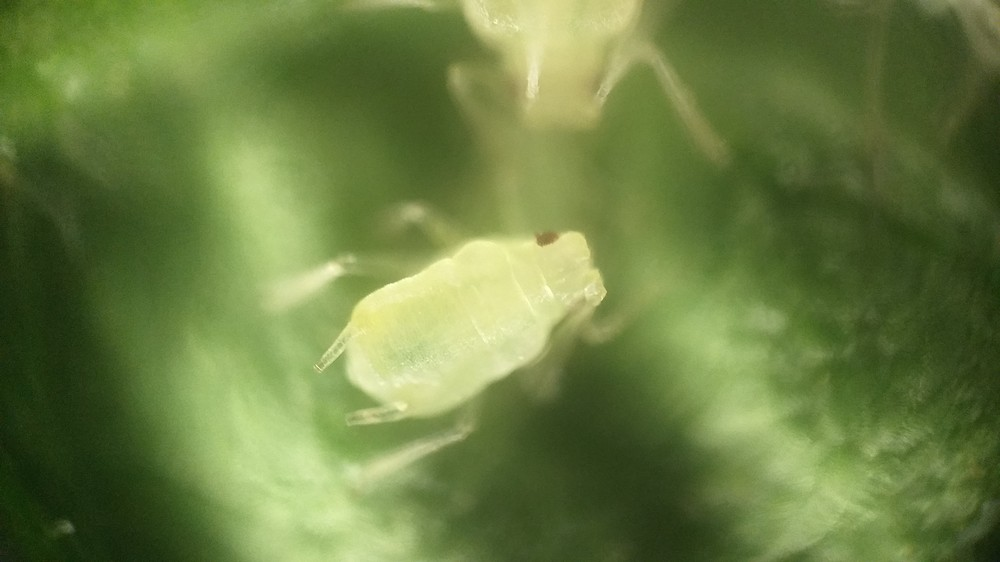Pulgon: (266, 170, 723, 477)
